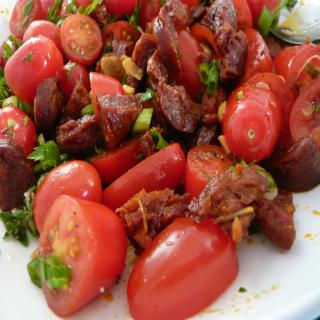tomato: (125, 220, 240, 316), (39, 195, 128, 314), (98, 145, 186, 211), (35, 160, 101, 235), (223, 84, 283, 164), (5, 36, 61, 103), (184, 144, 236, 202), (88, 135, 143, 184), (60, 13, 102, 68), (291, 75, 320, 146), (89, 72, 124, 125), (0, 106, 37, 156), (23, 20, 62, 53), (100, 19, 141, 48)
